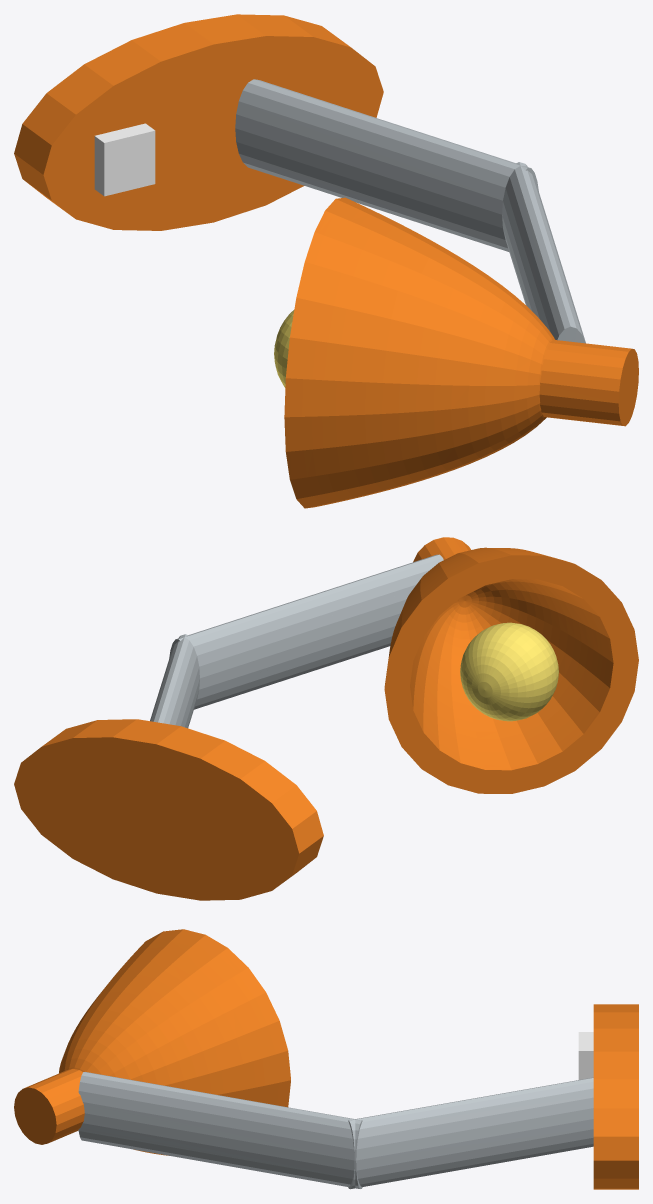
Rendered from tinker.obj.
3 renders of one model, top to bottom at view 1: azimuth 30°, elevation 25°; view 2: azimuth 150°, elevation 25°; view 3: azimuth 270°, elevation 25°, orthographic. The views are drawn at different scales.
Parts seen in each view (by area): view 1: group_0_16089887, group_0_12568524, group_0_16448250, group_0_16771694; view 2: group_0_16089887, group_0_12568524, group_0_16771694; view 3: group_0_16089887, group_0_12568524, group_0_16448250.
Boxes of the visible parts, box(x1,y1,x2,y2) form: group_0_16089887: box(14, 14, 638, 508); group_0_12568524: box(235, 79, 585, 343); group_0_16448250: box(94, 123, 155, 196); group_0_16771694: box(274, 310, 294, 387); group_0_16089887: box(14, 537, 638, 900); group_0_12568524: box(150, 554, 443, 728); group_0_16771694: box(460, 622, 558, 721); group_0_16089887: box(14, 929, 638, 1189); group_0_12568524: box(78, 1072, 593, 1189); group_0_16448250: box(578, 1032, 593, 1079).
Size of the model in its own units: 23.97 by 16 by 41.46.
